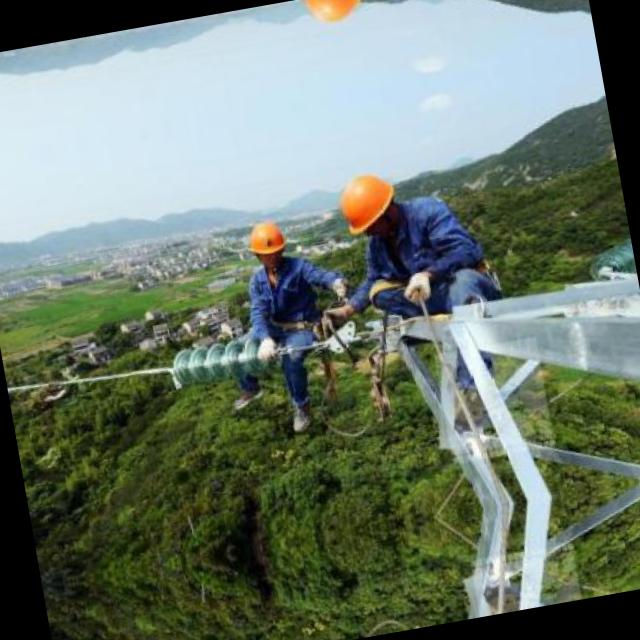helmet: (327, 161, 408, 249), (240, 212, 294, 271), (294, 0, 370, 36)
